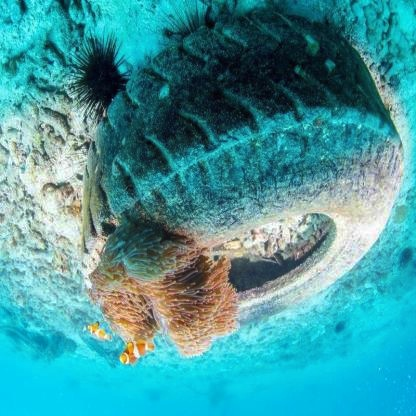tire: (110, 20, 404, 269)
